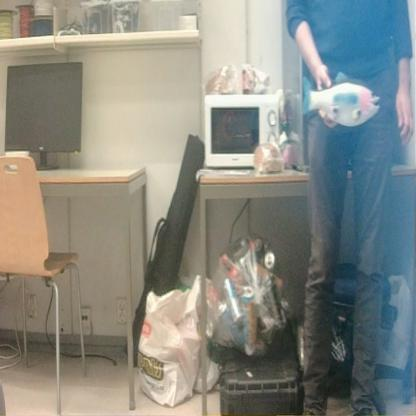rubberfish: (296, 67, 383, 135)
